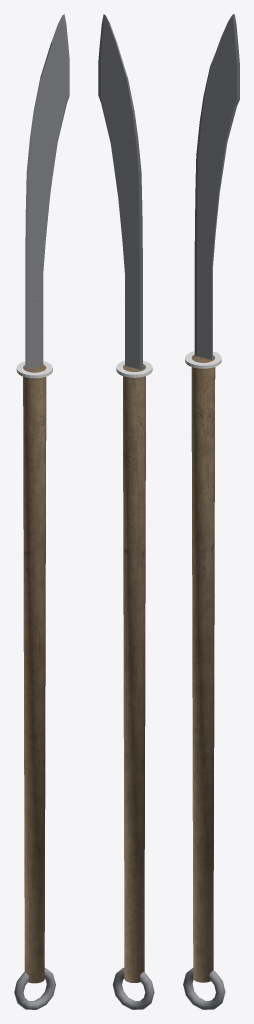
File: Spear_02.fbx
The picture shows the model from 3 angles, left to right: view 1: azimuth 30°, elevation 25°; view 2: azimuth 150°, elevation 25°; view 3: azimuth 330°, elevation 25°; orthographic projection.
Visible parts, largest first — view 1: Spear_02; view 2: Spear_02; view 3: Spear_02.
Boxes of the visible parts, x1=… form: Spear_02: x1=14, y1=14, x2=69, y2=1009; Spear_02: x1=98, y1=14, x2=154, y2=1009; Spear_02: x1=183, y1=14, x2=239, y2=1009.
Bounding box in the file's own units: 5.16 × 88.31 × 2.94.
Materials: 4 (3 with a texture image).
